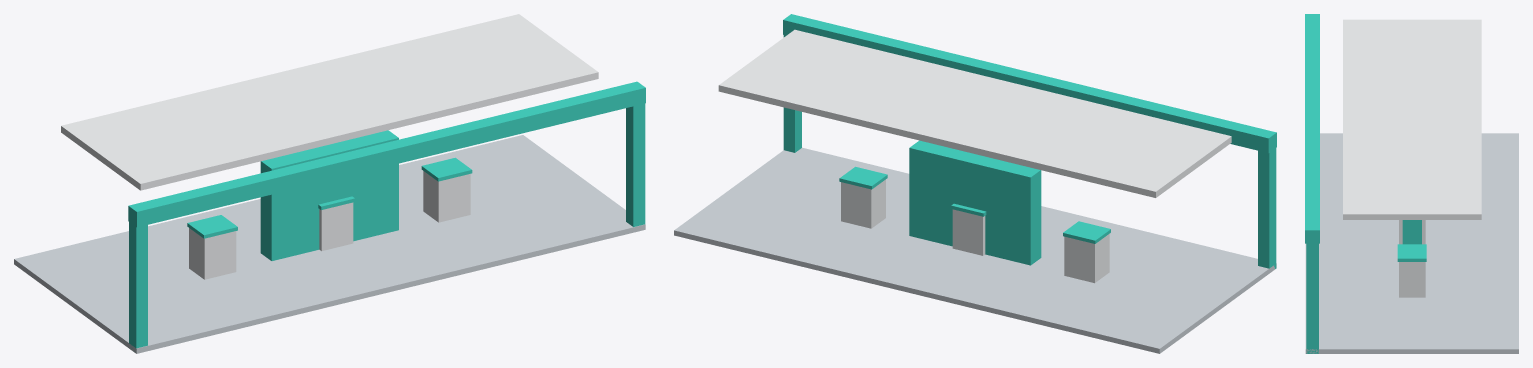
3 views of the same model, side by side, from view 1: azimuth 30°, elevation 25°; view 2: azimuth 150°, elevation 25°; view 3: azimuth 270°, elevation 25° (orthographic). The views are drawn at different scales.
Parts seen in each view (by area): view 1: Exhibition Booth Concept; view 2: Exhibition Booth Concept; view 3: Exhibition Booth Concept.
Boxes of the visible parts, x1,y1,x2,y2 form: Exhibition Booth Concept: [14, 14, 645, 353]; Exhibition Booth Concept: [674, 14, 1276, 353]; Exhibition Booth Concept: [1305, 14, 1518, 353].
Bounding box in the file's own units: 12 × 3.34 × 5.02.
